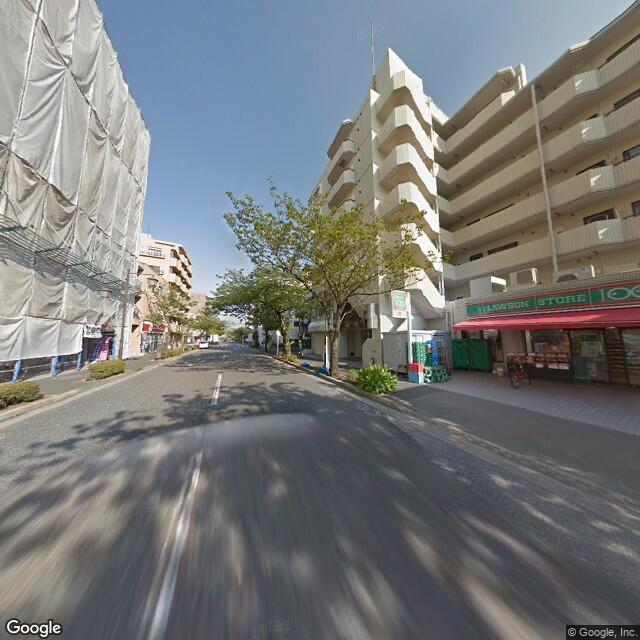lawson: (467, 275, 638, 323)
